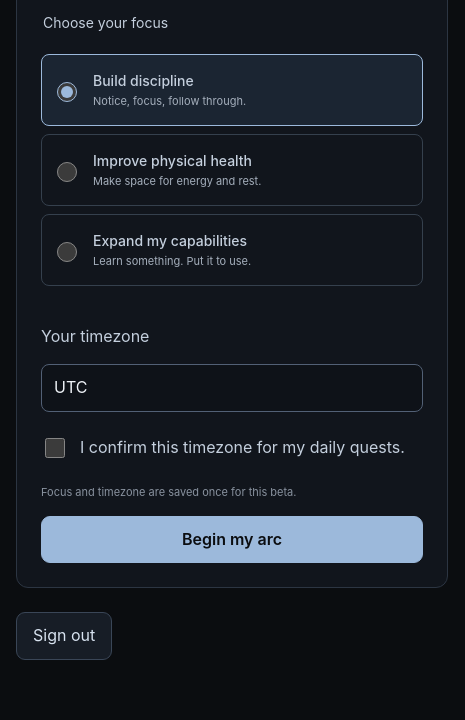
requires timezone confirmation and displays server validation errors
The width and height of the screenshot is (465, 720).
(page scrolled)
Click the button "Begin my arc": (232, 539) [41, 516, 423, 563]
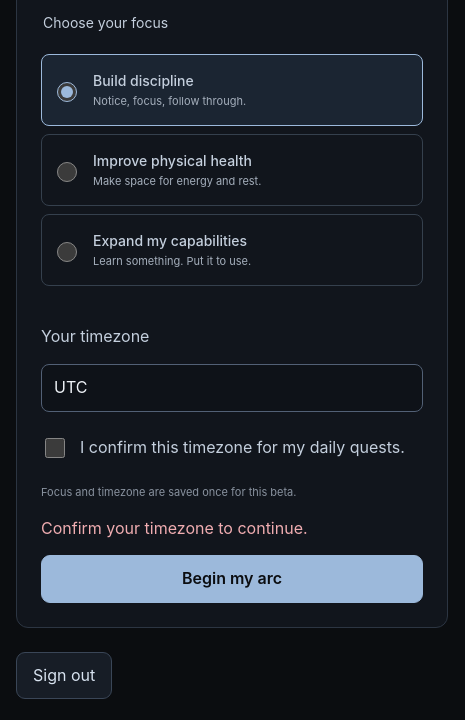
expect the message shows "Confirm your timezone": met, box [41, 518, 308, 538]
Replace the text in the field labelled "Your timezone" with "Mars/Crater": (232, 388) [41, 364, 423, 412]
Click the checkbox labelled "I confirm this timezone for my daily quests.": (55, 448) [45, 438, 65, 458]
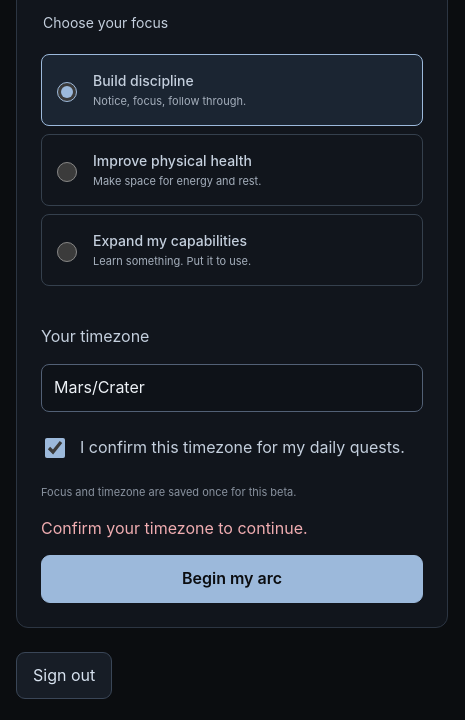
Click the button "Begin my arc": (232, 579) [41, 555, 423, 603]
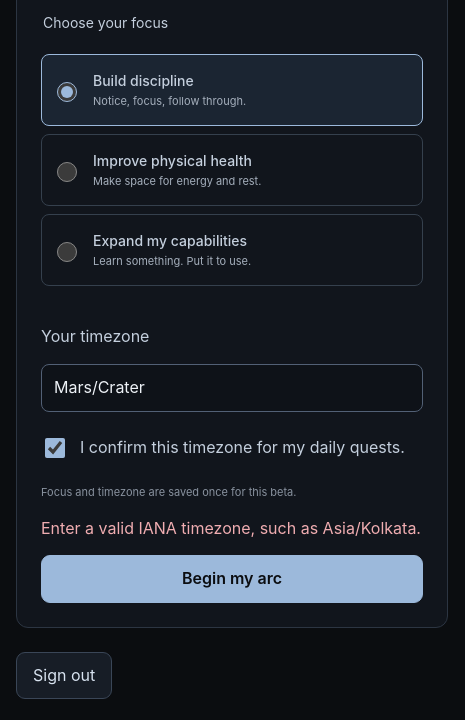
expect the message shows "IANA timezone": met, box [41, 518, 421, 538]
Replace the text in the field labelled "Your timezone" with "UTC": (232, 388) [41, 364, 423, 412]
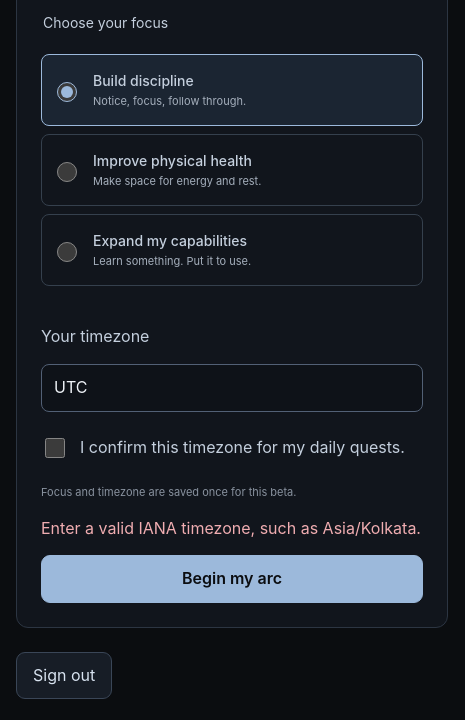
Click the checkbox labelled "I confirm this timezone for my daily quests.": (55, 448) [45, 438, 65, 458]
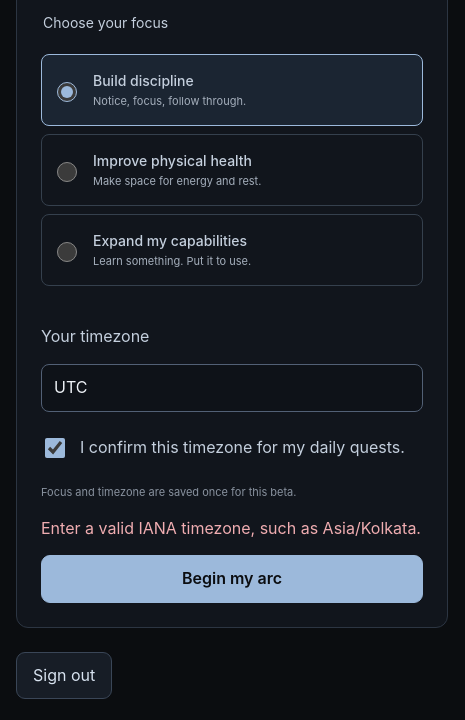
Click the button "Begin my arc": (232, 579) [41, 555, 423, 603]
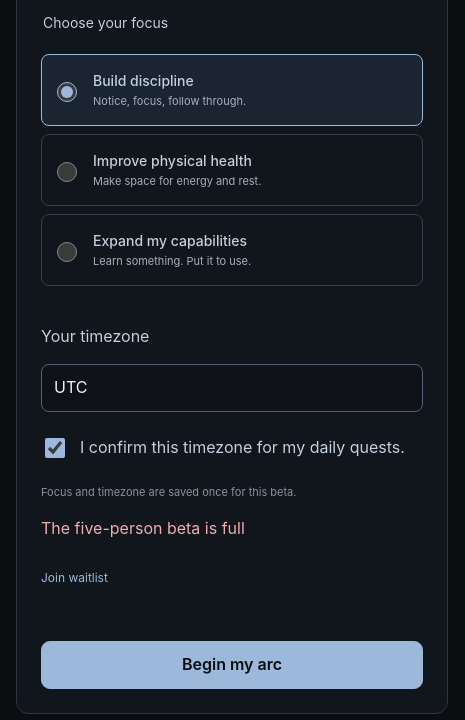
expect the message shows "beta is full": met, box [41, 518, 245, 538]
